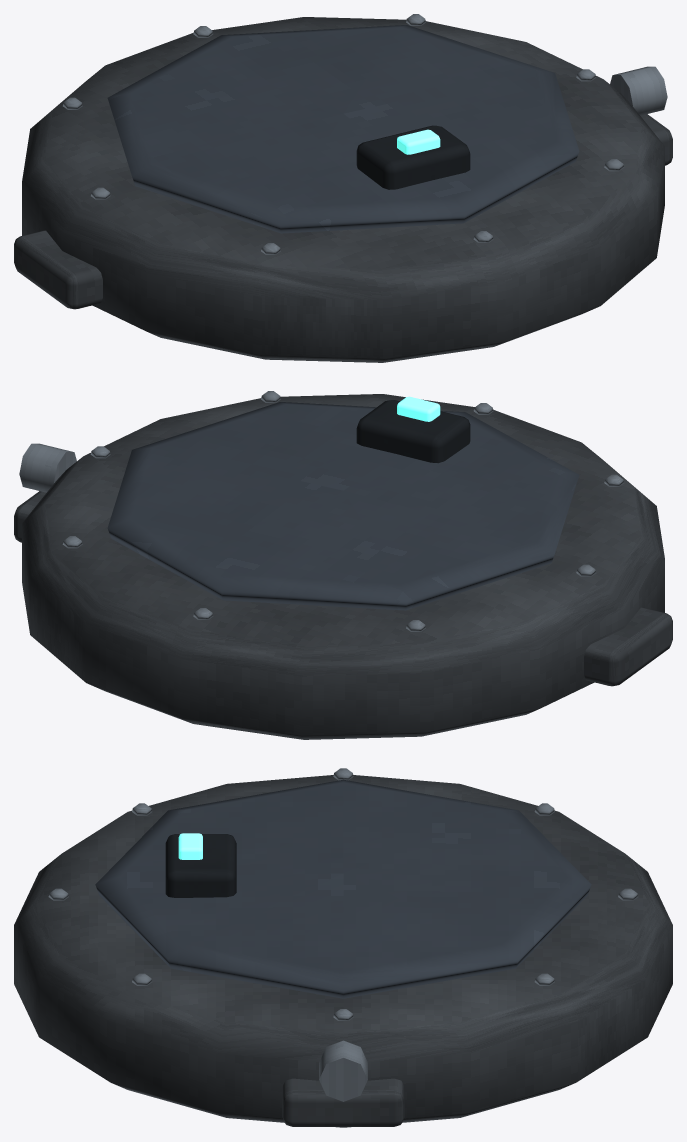
Rendered from trip-mine.lod2.glb.
3 renders of one model, top to bottom at view 1: azimuth 30°, elevation 25°; view 2: azimuth 150°, elevation 25°; view 3: azimuth 270°, elevation 25°, orthographic.
Parts seen in each view (by area): view 1: darksteel / oil-blackened fittings, ceramic / ceramic composite panel, polymer / stippled polymer, alloy / machined anodized alloy, energy / emissive field channel; view 2: darksteel / oil-blackened fittings, ceramic / ceramic composite panel, polymer / stippled polymer, alloy / machined anodized alloy, energy / emissive field channel; view 3: darksteel / oil-blackened fittings, ceramic / ceramic composite panel, alloy / machined anodized alloy, polymer / stippled polymer, energy / emissive field channel.
Part boxes in pixels (x1=…): darksteel / oil-blackened fittings: x1=14, y1=17, x2=672, y2=362; ceramic / ceramic composite panel: x1=107, y1=25, x2=579, y2=233; polymer / stippled polymer: x1=356, y1=125, x2=470, y2=189; alloy / machined anodized alloy: x1=63, y1=14, x2=667, y2=254; energy / emissive field channel: x1=397, y1=129, x2=440, y2=154; darksteel / oil-blackened fittings: x1=14, y1=394, x2=672, y2=739; ceramic / ceramic composite panel: x1=107, y1=402, x2=579, y2=610; polymer / stippled polymer: x1=356, y1=400, x2=470, y2=463; alloy / machined anodized alloy: x1=19, y1=391, x2=623, y2=631; energy / emissive field channel: x1=397, y1=396, x2=440, y2=421; darksteel / oil-blackened fittings: x1=14, y1=775, x2=672, y2=1127; ceramic / ceramic composite panel: x1=95, y1=779, x2=591, y2=998; alloy / machined anodized alloy: x1=48, y1=768, x2=638, y2=1101; polymer / stippled polymer: x1=165, y1=834, x2=236, y2=897; energy / emissive field channel: x1=178, y1=833, x2=202, y2=859.
Size of the model in its own units: 0.355 by 0.086 by 0.324.
6 materials, 4 textured.
